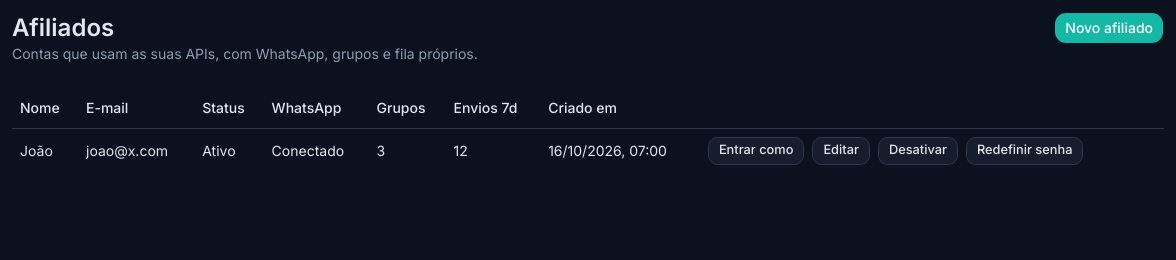
AffiliatesClient › redefine a senha com confirmação, mostra a nova senha e "Fechar" a remove
Expected: the text "João" is shown, [12,128,78,172]
Click the button "Redefinir senha" at (1025, 150), box [966,136,1083,164]
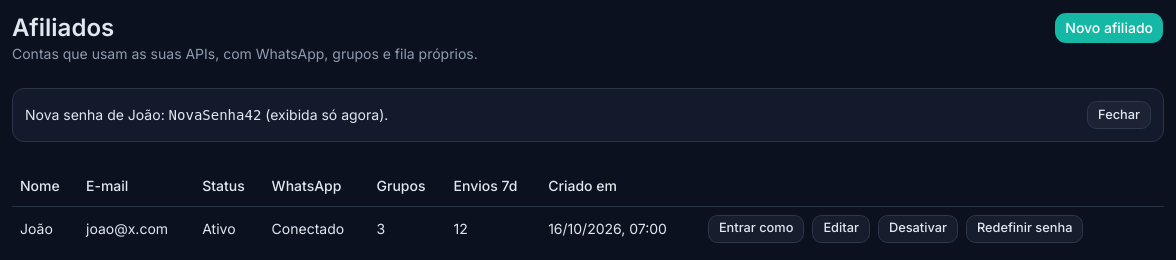
Now the text "NovaSenha42" is shown, box [169,107,261,123]
Click the button "Fechar" at (1119, 115), box [1087,101,1151,129]
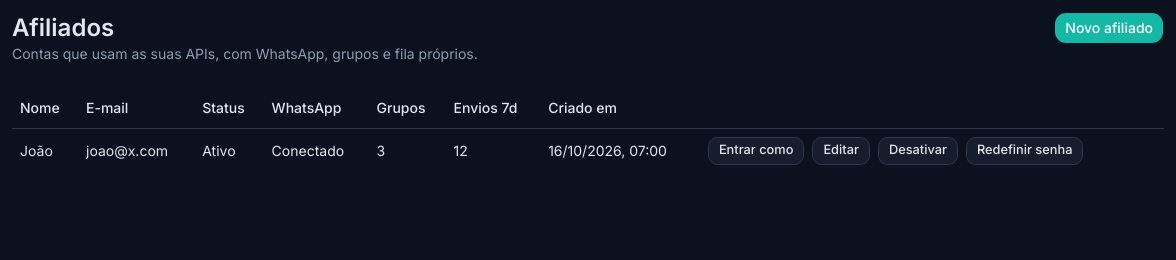
Now the text "NovaSenha42" is gone
